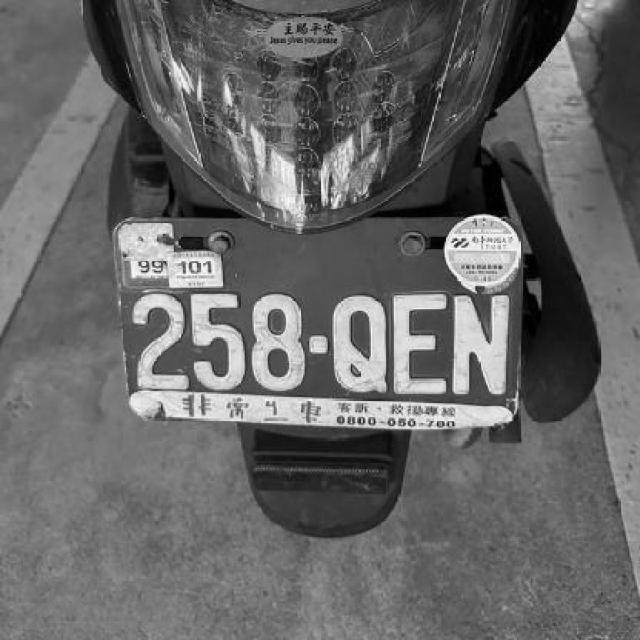-: (306, 332, 329, 354)
2: (129, 291, 191, 389)
5: (191, 290, 249, 392)
8: (251, 291, 306, 394)
E: (391, 294, 449, 397)
N: (448, 291, 510, 400)
Q: (332, 292, 390, 396)
